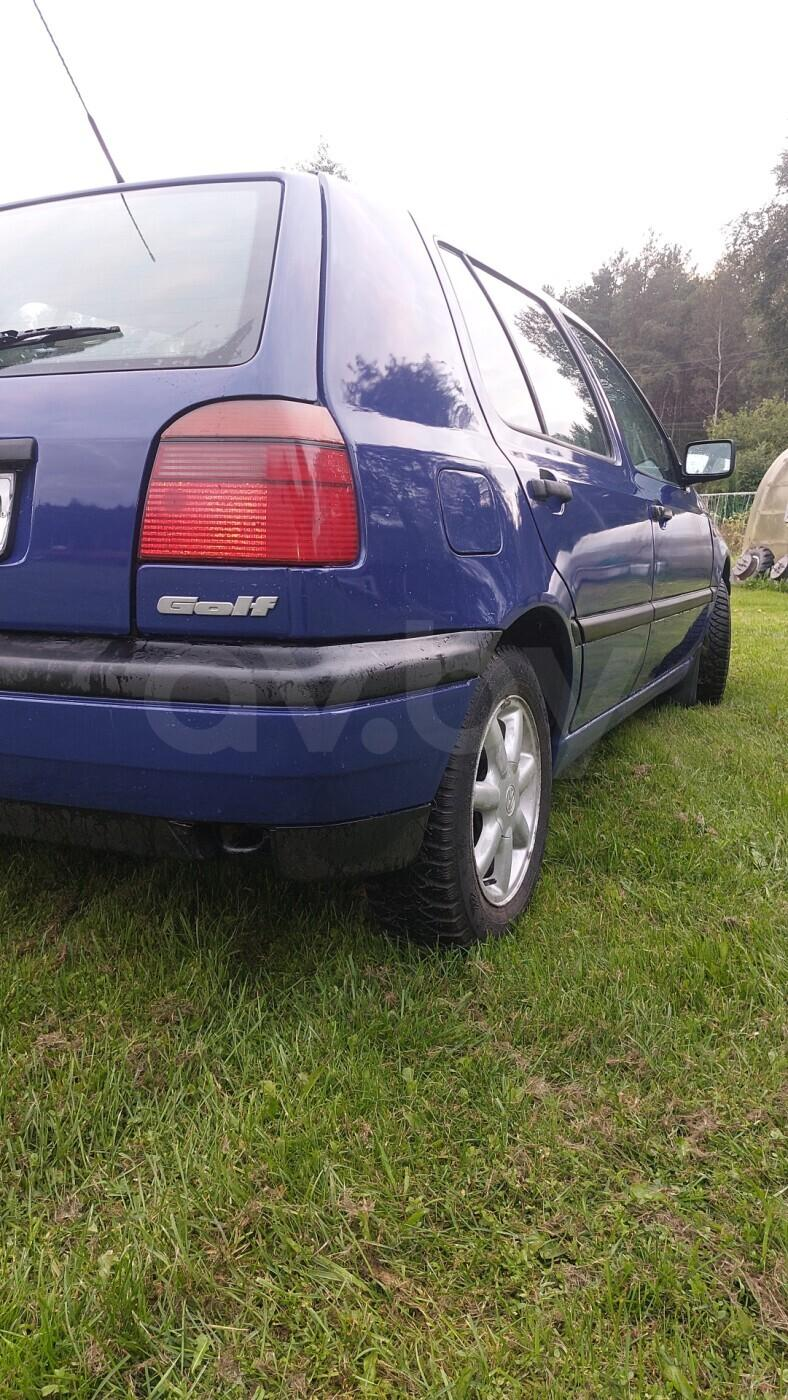Golf_1991-2000: (0, 160, 745, 928)
